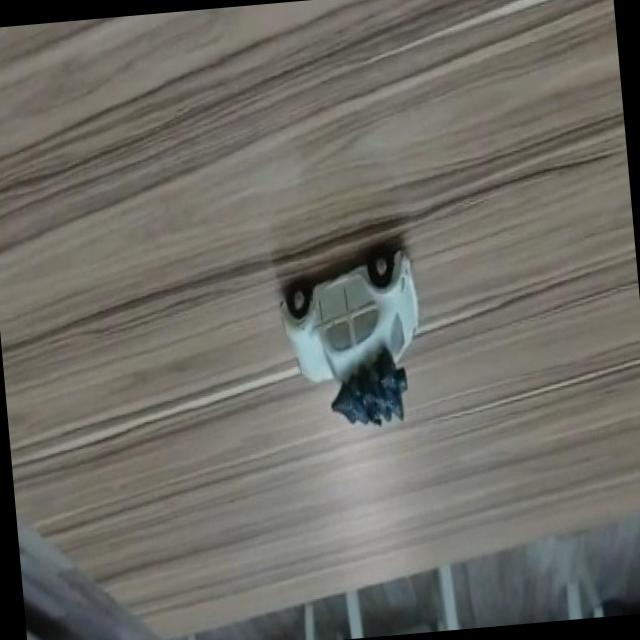car: (277, 251, 428, 389)
